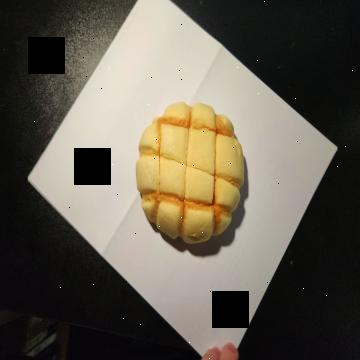melon_bread: (136, 102, 245, 244)
